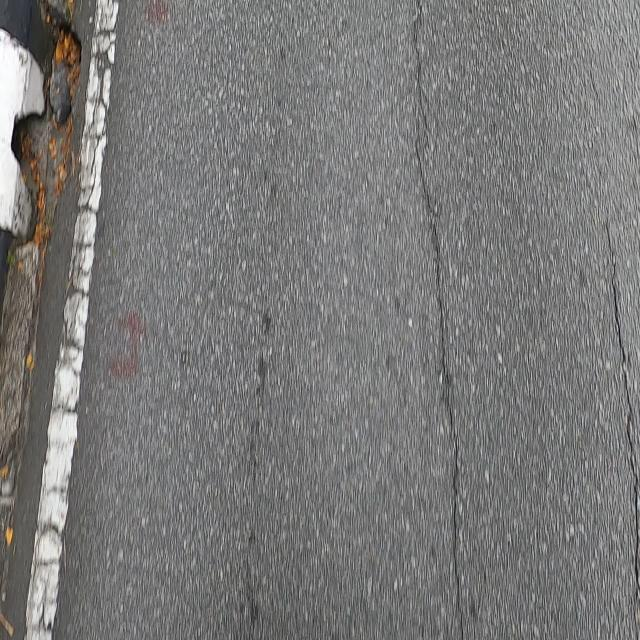Retak-Memanjang: (408, 0, 466, 638), (604, 226, 640, 602)
